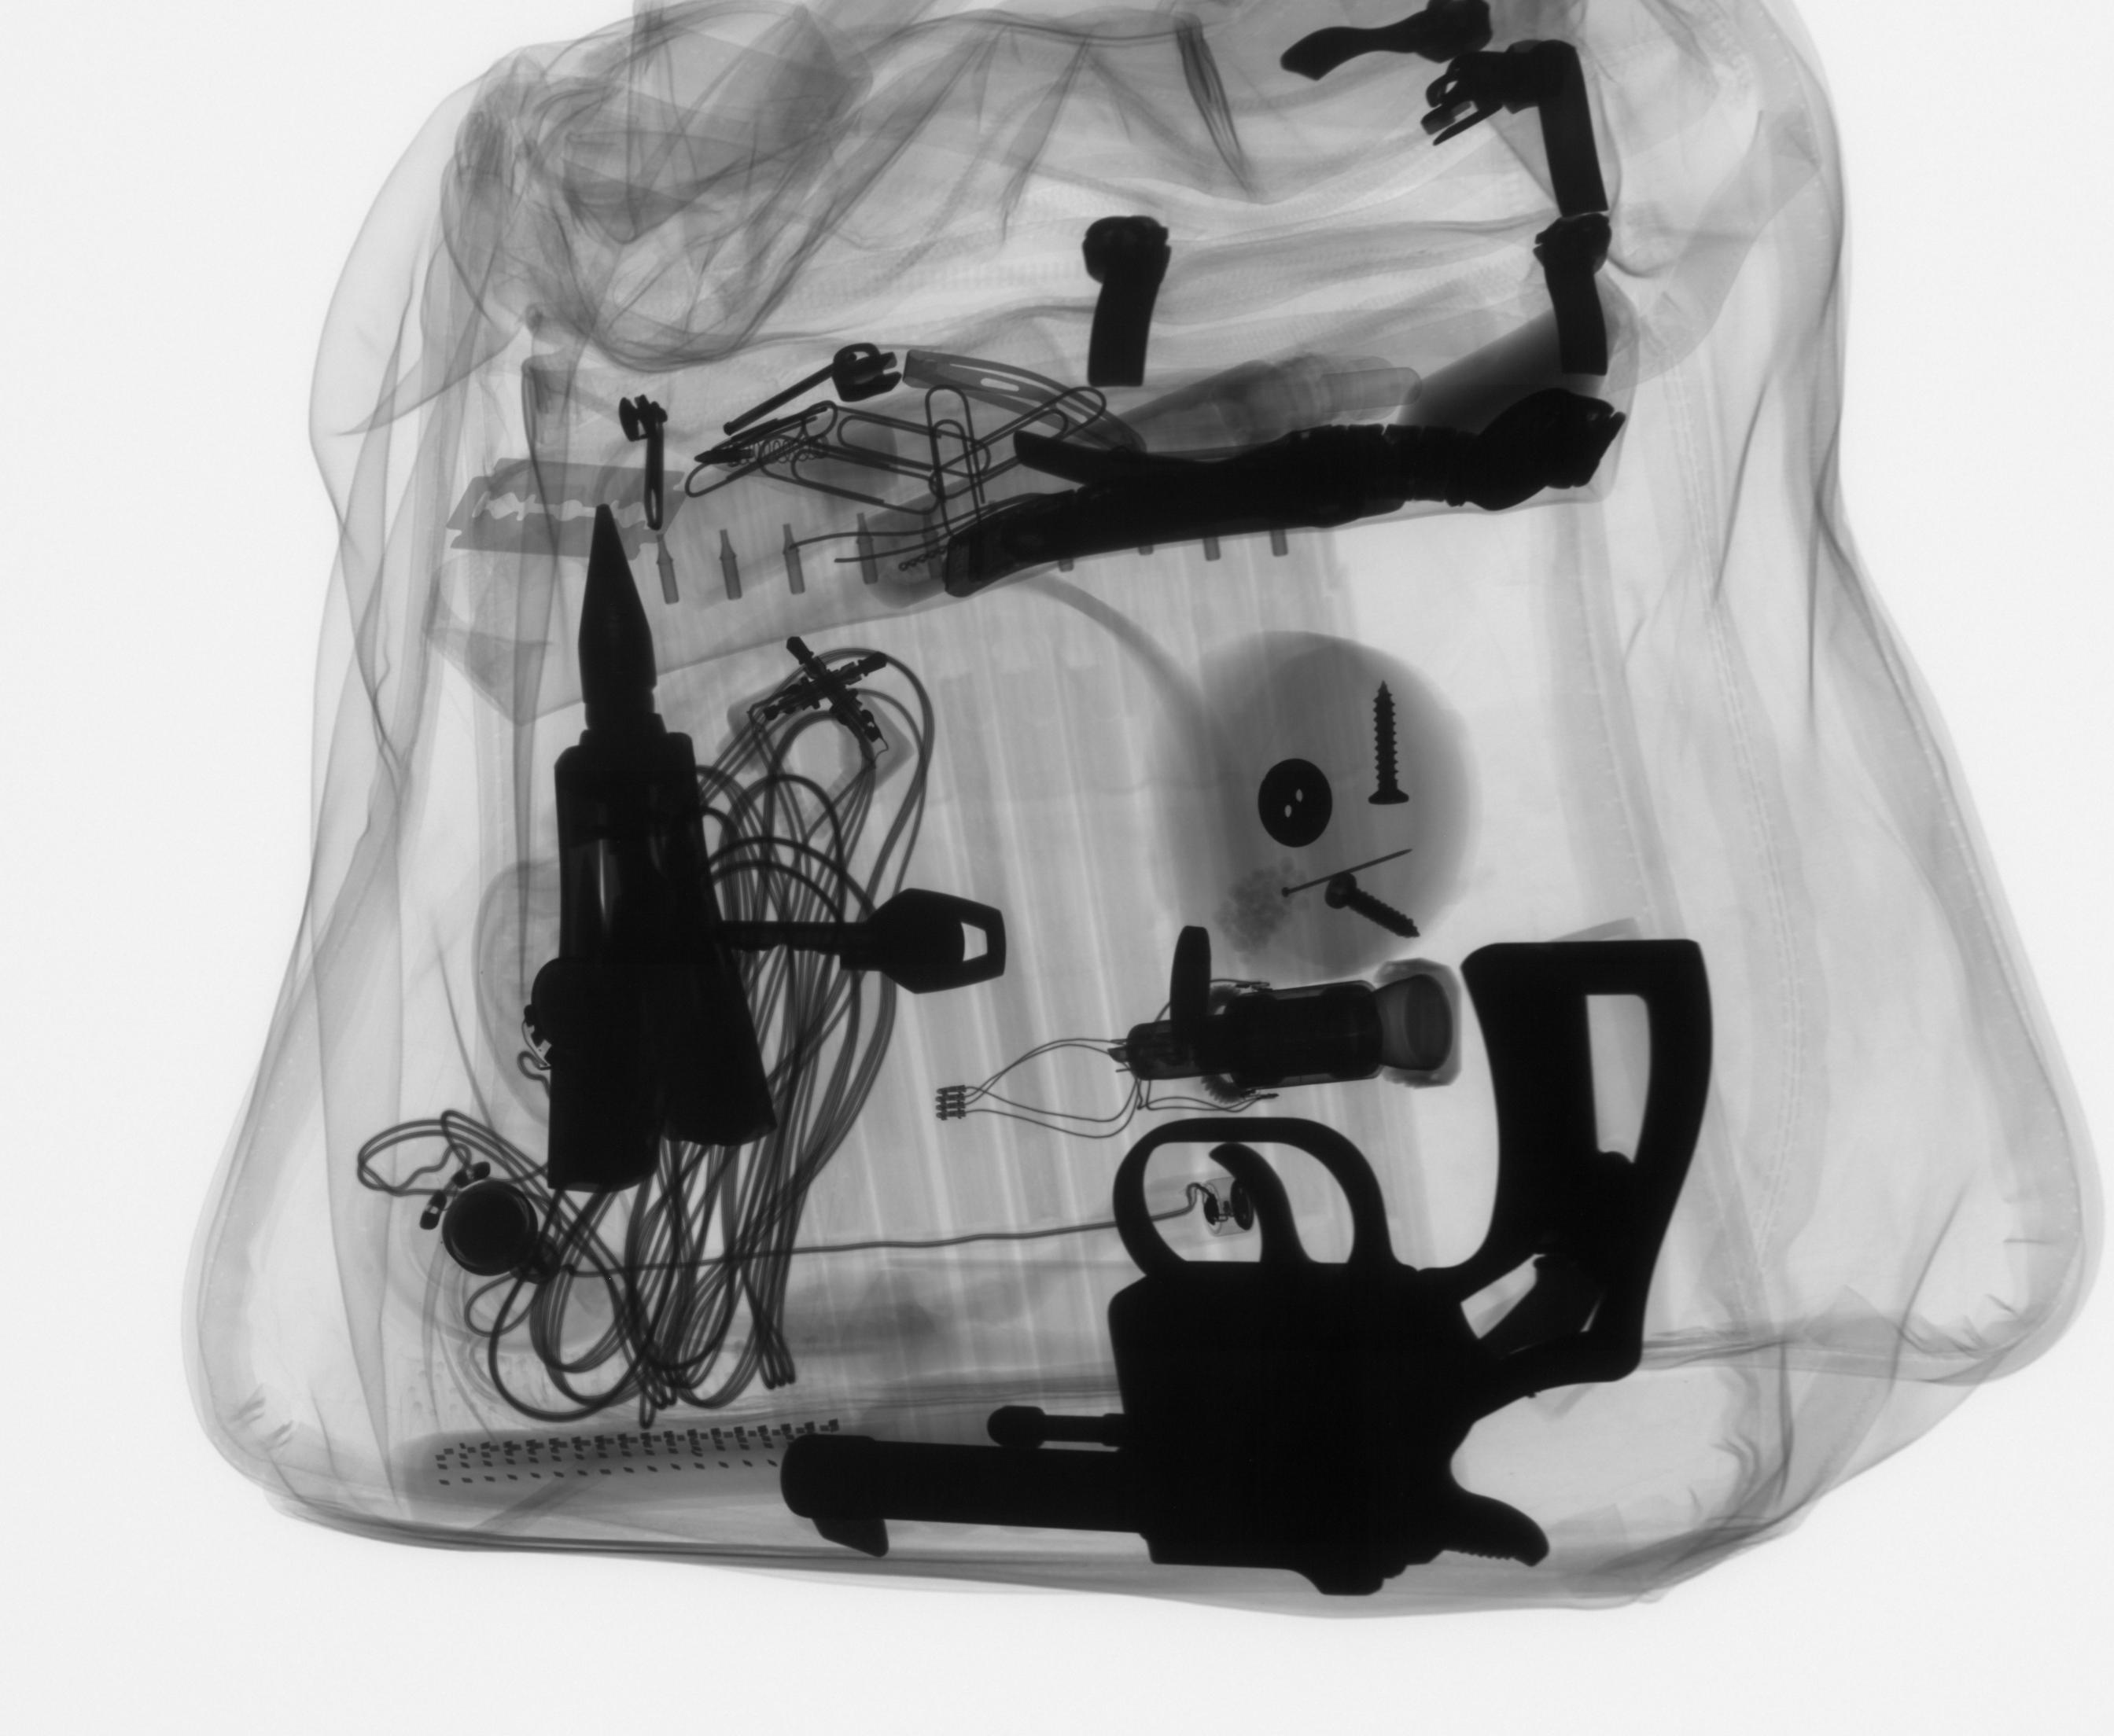Handgun: (764, 929, 1732, 1605)
RazorBlade: (441, 451, 696, 567)
